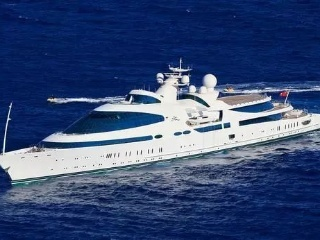yacht: (1, 58, 318, 183)
